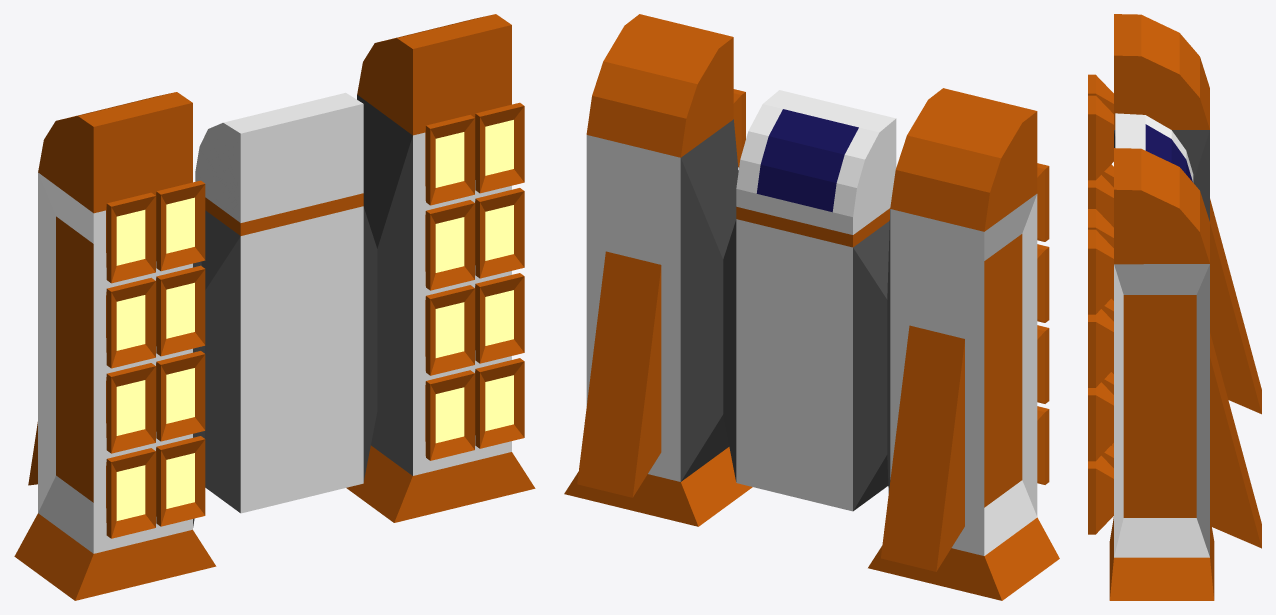
File: AllgearRover.fbx
3 views of the same model, side by side, from view 1: azimuth 30°, elevation 25°; view 2: azimuth 150°, elevation 25°; view 3: azimuth 270°, elevation 25° (orthographic). The views are drawn at different scales.
Parts seen in each view (by area): view 1: AllgearBasic; view 2: AllgearBasic; view 3: AllgearBasic.
Boxes of the visible parts, <box> form: AllgearBasic: <box>14,14,535,600</box>; AllgearBasic: <box>564,14,1059,600</box>; AllgearBasic: <box>1088,14,1261,600</box>.
Bounding box in the file's own units: 210 × 553 × 536.
